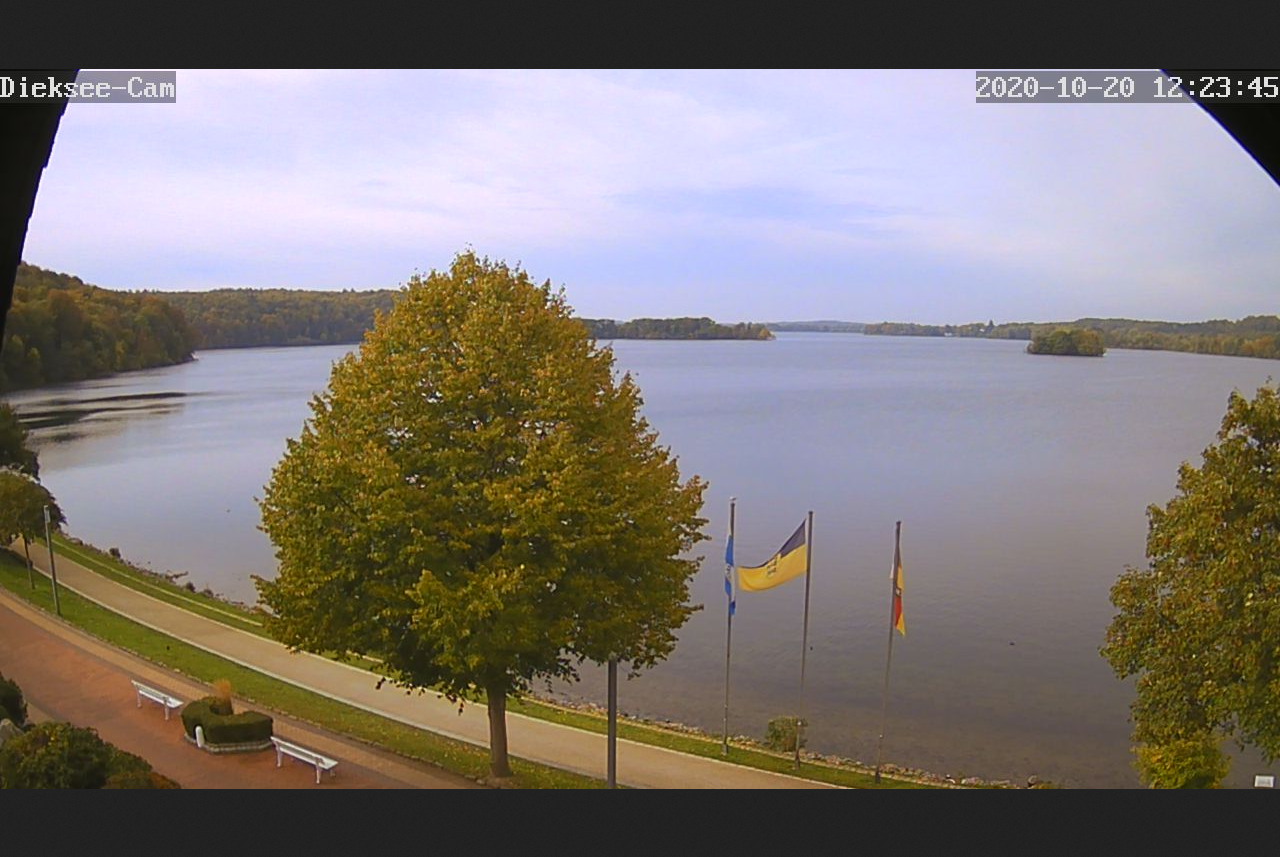maybe: (740, 517, 811, 593), (888, 532, 910, 640)
no: (721, 523, 736, 620)
